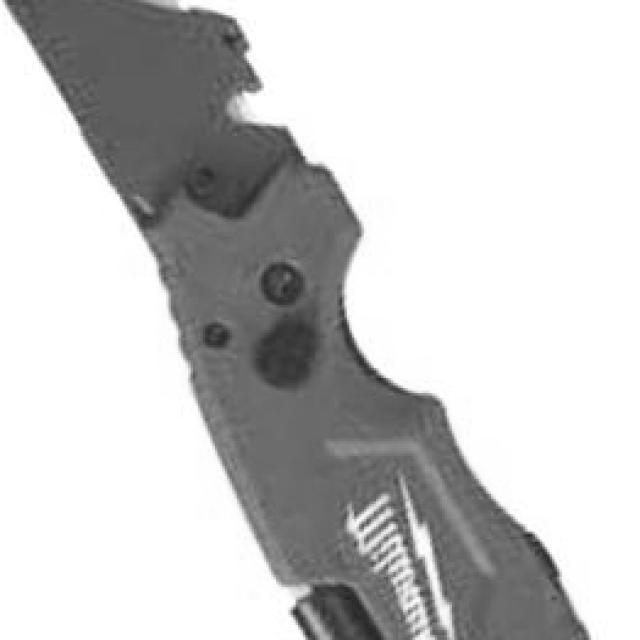estilete: (5, 0, 589, 640)
